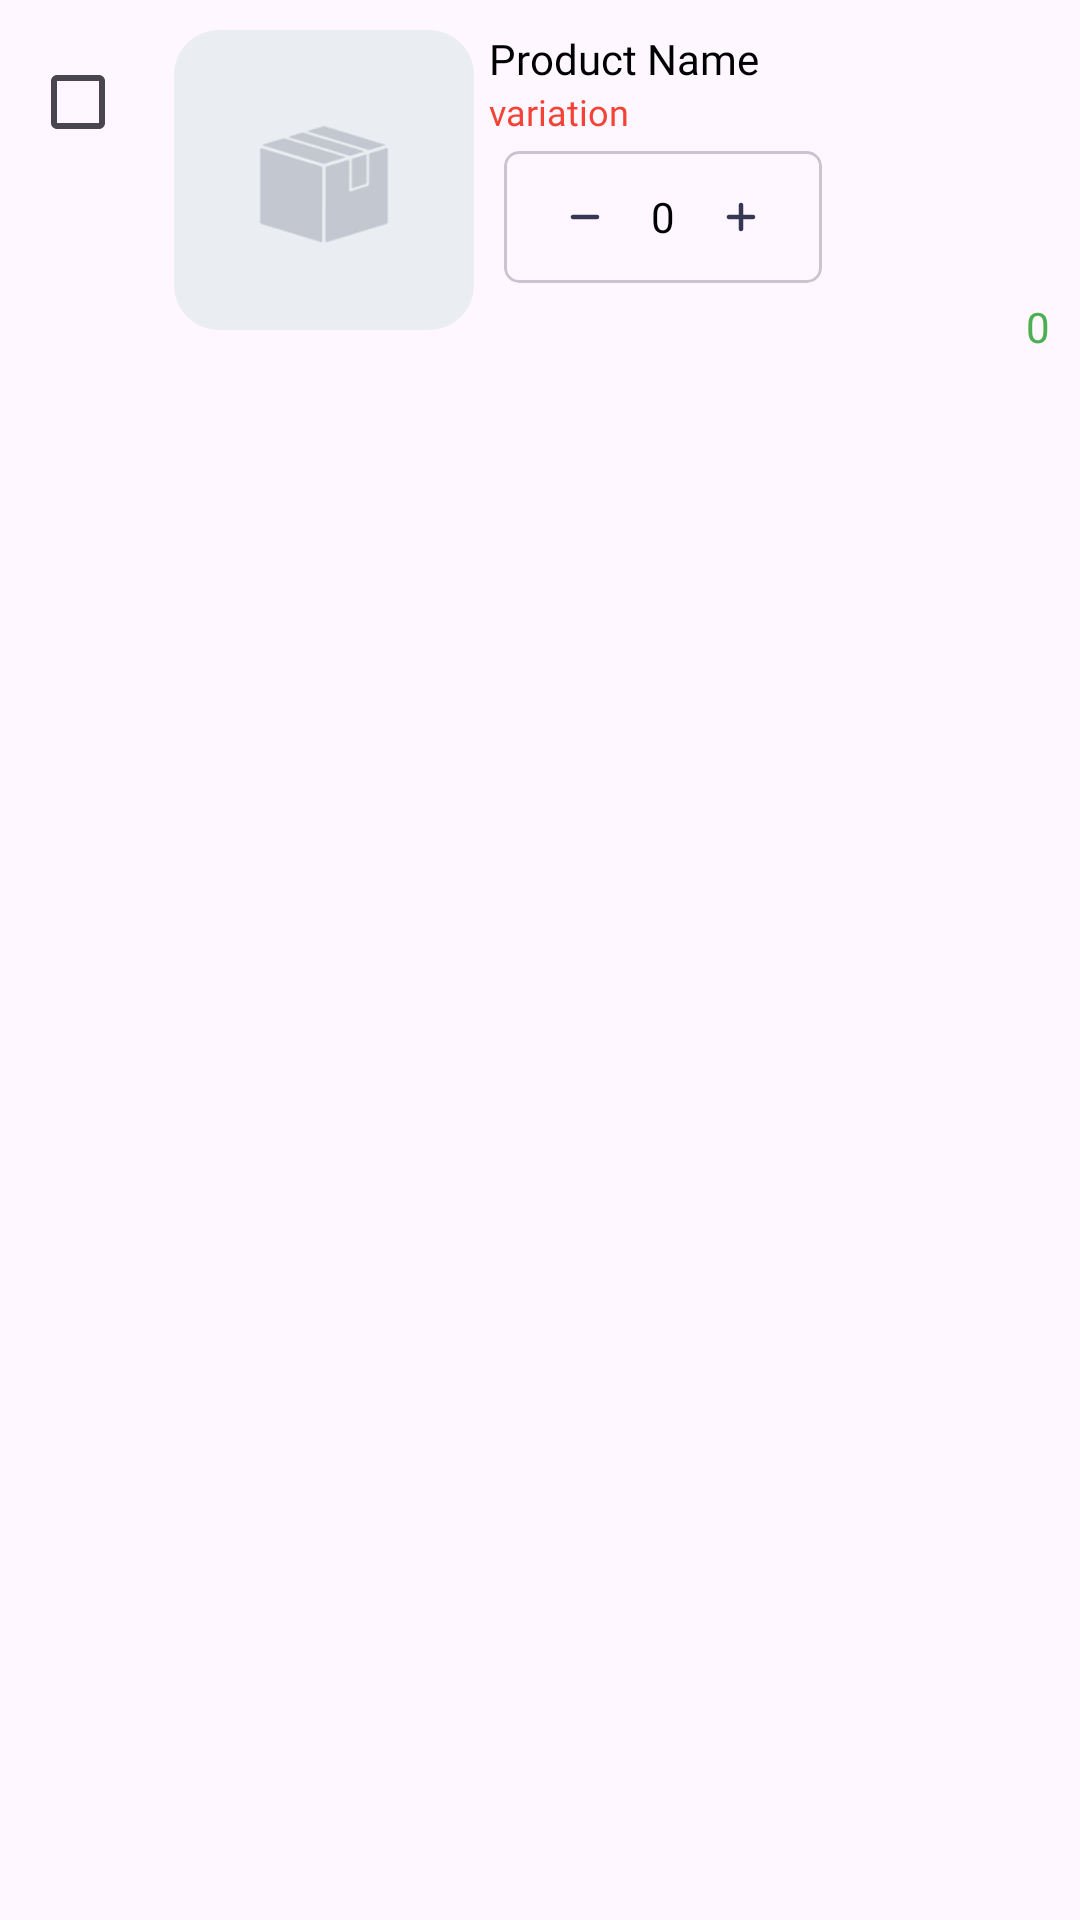

Icons on this 1080×1920 Android screen, each with its box as [x1,y1,x2,y2]:
add: [726,202,756,232]
minus: [570,214,600,220]
